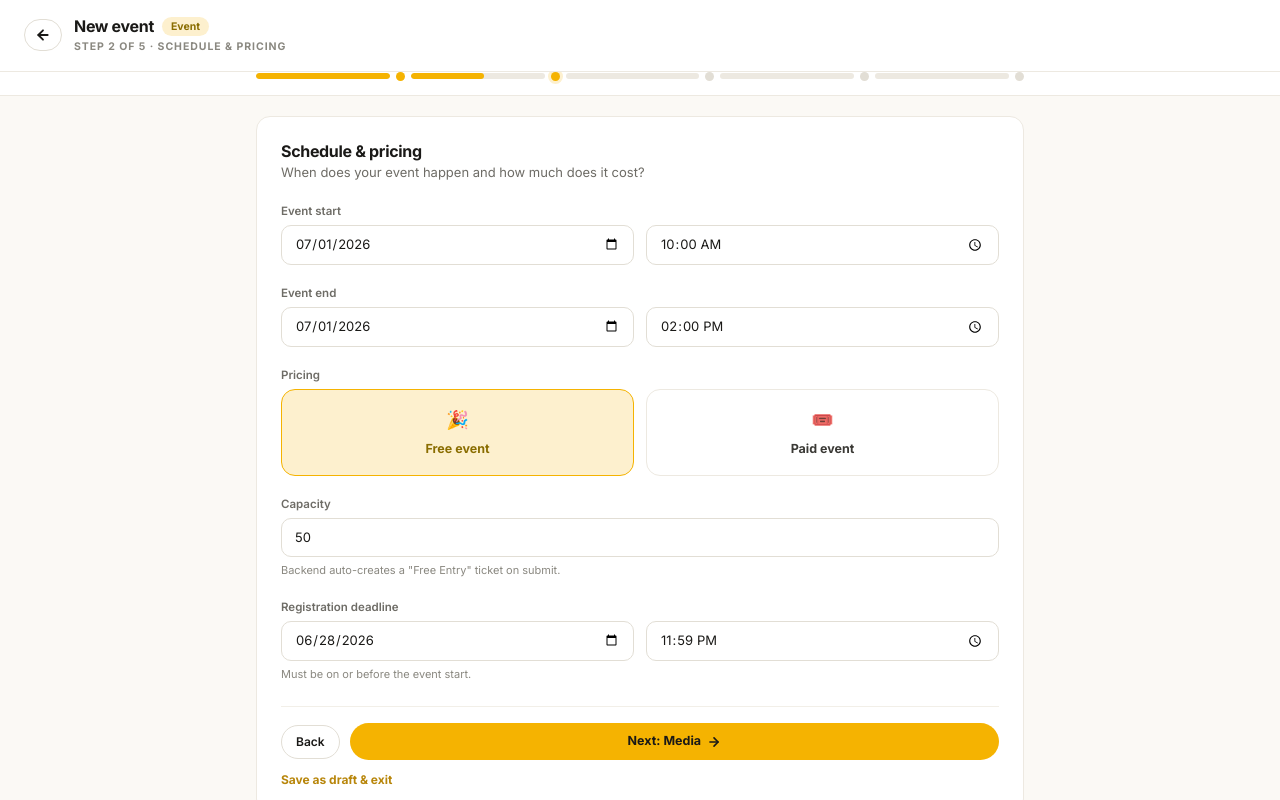
CreateEventSchedule — pricing toggle › shows warning banner when price_type is switched
The image size is (1280, 800).
Click the text "Paid event" at (822, 449), box [791,440,854,459]
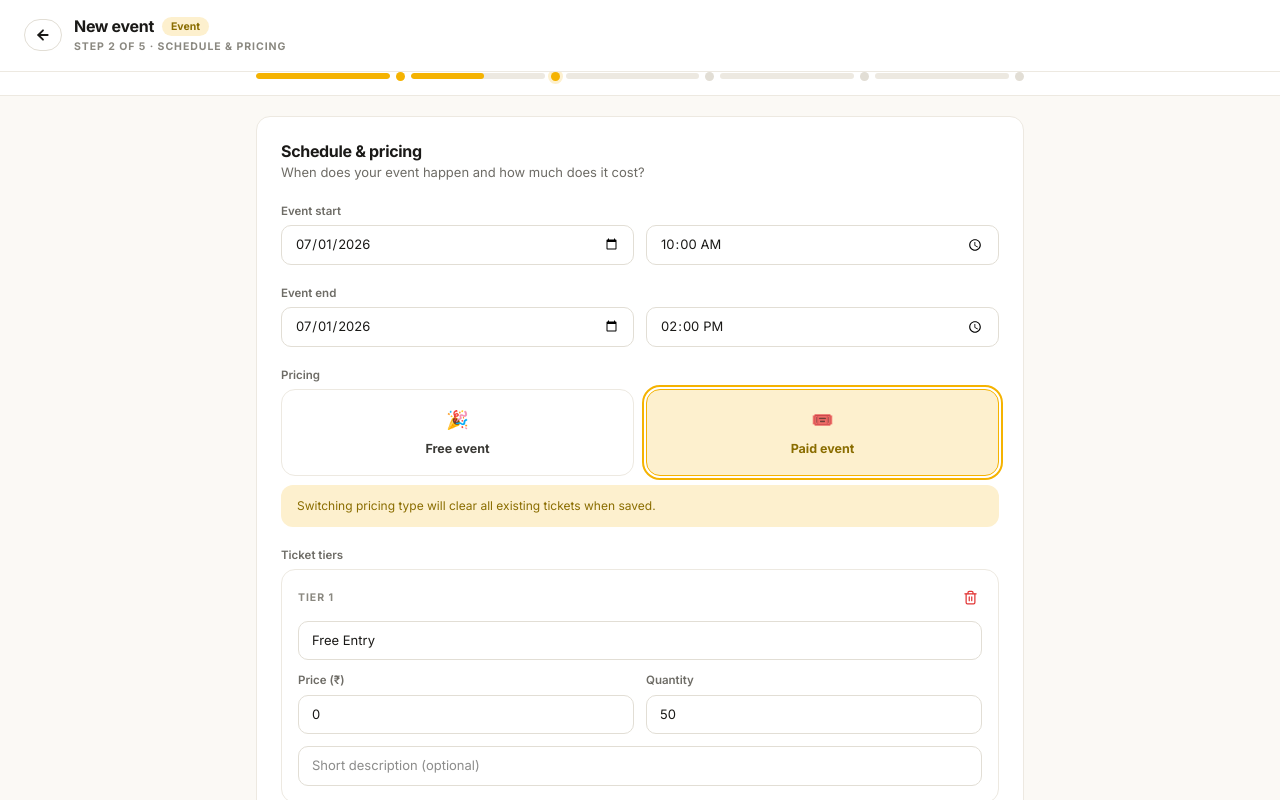
Now the text "Switching pricing type" is shown, box [297,498,656,513]
